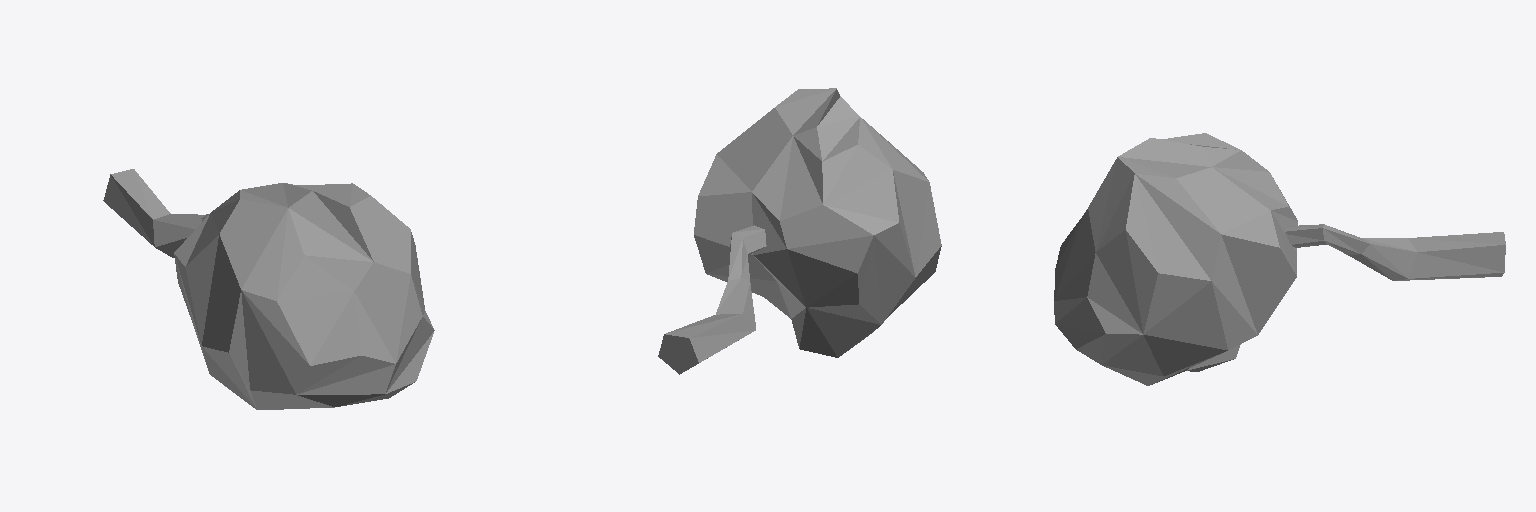
Rendered from lowpolytree4.obj.
3 views of the same model, side by side, from view 1: azimuth 30°, elevation 25°; view 2: azimuth 150°, elevation 25°; view 3: azimuth 270°, elevation 25° (orthographic).
Parts seen in each view (by area): view 1: Hedra001, Cylinder002; view 2: Hedra001, Cylinder002; view 3: Hedra001, Cylinder002.
Boxes of the visible parts, box(x1,y1,x2,y2) form: Hedra001: box(174, 183, 434, 409); Cylinder002: box(103, 169, 208, 257); Hedra001: box(694, 88, 941, 357); Cylinder002: box(658, 225, 766, 374); Hedra001: box(1054, 133, 1297, 385); Cylinder002: box(1285, 224, 1505, 280).
Size of the model in its own units: 2.15 by 2.32 by 4.15.